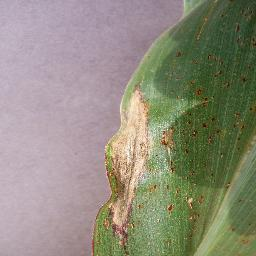Corn_Blight: (95, 76, 157, 254), (188, 88, 251, 163), (206, 50, 252, 95), (162, 114, 183, 181), (192, 170, 238, 192), (163, 200, 206, 219), (173, 41, 192, 62)
